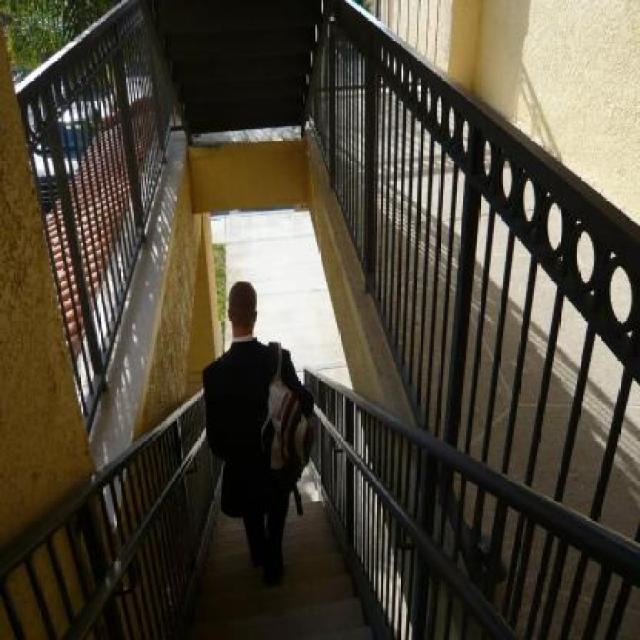stair: (181, 464, 383, 640)
